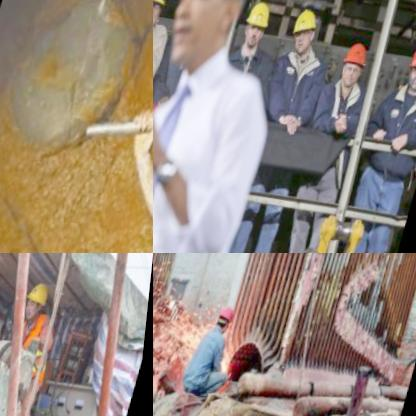helmet: (286, 6, 325, 58), (239, 0, 277, 53), (337, 41, 374, 94), (22, 278, 57, 327), (217, 301, 242, 337), (404, 44, 416, 93), (153, 0, 171, 29)
